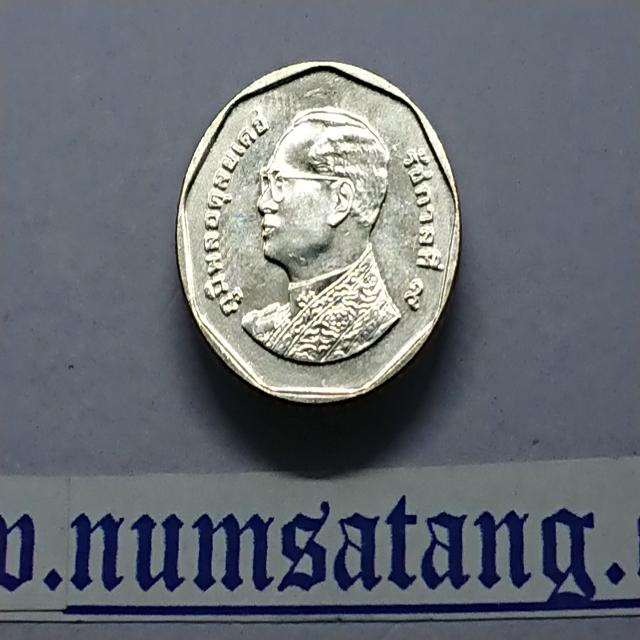5 Bath: (175, 57, 465, 410)
